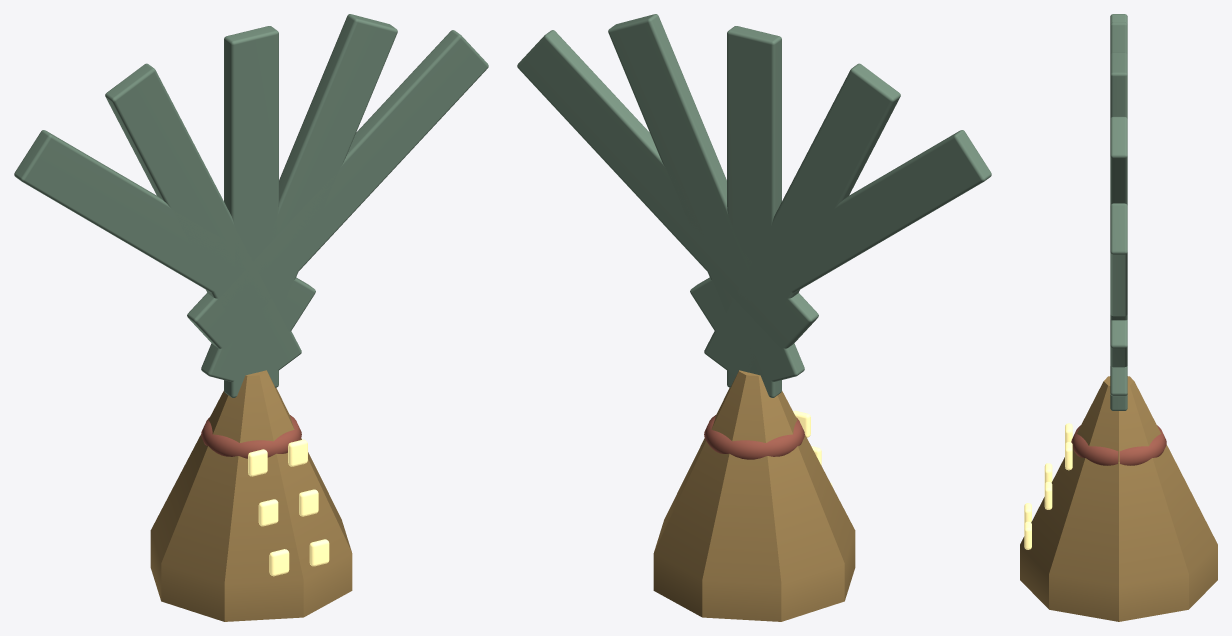
3 renders of one model, left to right at view 1: azimuth 30°, elevation 25°; view 2: azimuth 150°, elevation 25°; view 3: azimuth 270°, elevation 25°, orthographic. The views are drawn at different scales.
Visible parts, largest first — view 1: Tapered spire, Upright collector blade.004, Upright collector blade.001, Upright collector blade, Upright collector blade.002, Upright collector blade.003, Spire collar; view 2: Tapered spire, Upright collector blade.001, Upright collector blade.003, Upright collector blade.004, Upright collector blade, Upright collector blade.002, Spire collar; view 3: Tapered spire, Upright collector blade.004, Spire collar, Upright collector blade.003, Upright collector blade.002, Upright collector blade.001, Upright collector blade.
Part boxes in pixels (box(x1,y1,x2,y2)): Tapered spire: box(150, 370, 352, 621); Upright collector blade.004: box(187, 30, 488, 349); Upright collector blade.001: box(105, 63, 301, 375); Upright collector blade: box(14, 130, 315, 331); Upright collector blade.002: box(224, 26, 278, 397); Upright collector blade.003: box(201, 14, 397, 381); Spire collar: box(201, 415, 301, 458); Tapered spire: box(653, 370, 855, 621); Upright collector blade.001: box(704, 63, 900, 375); Upright collector blade.003: box(608, 14, 804, 382); Upright collector blade.004: box(517, 30, 818, 349); Upright collector blade: box(690, 130, 991, 331); Upright collector blade.002: box(727, 26, 781, 397); Spire collar: box(704, 415, 804, 459); Tapered spire: box(1020, 376, 1217, 621); Upright collector blade.004: box(1110, 203, 1127, 316); Spire collar: box(1071, 425, 1166, 465); Upright collector blade.003: box(1110, 116, 1127, 320); Upright collector blade.002: box(1110, 52, 1127, 410); Upright collector blade.001: box(1110, 22, 1127, 396); Upright collector blade: box(1110, 14, 1127, 367).
Bounding box in the file's own units: 2.33 × 2.6 × 0.9.
